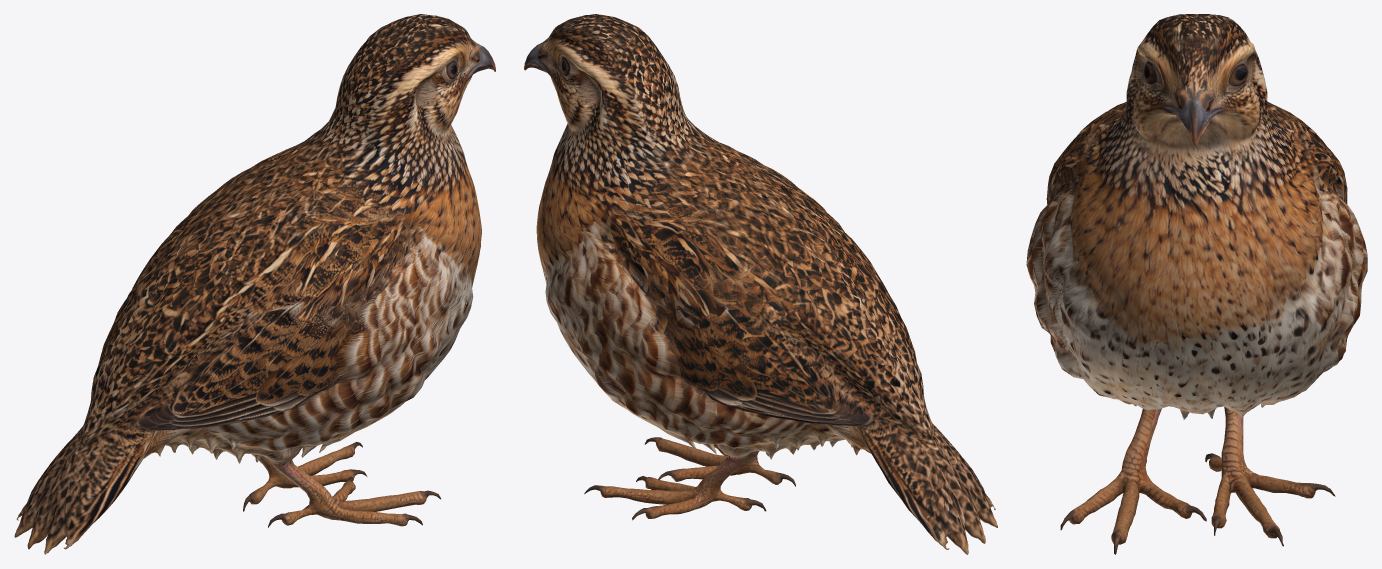
The model's file is supplied-common-quail.glb.
3 views of the same model, side by side, from view 1: azimuth 30°, elevation 25°; view 2: azimuth 150°, elevation 25°; view 3: azimuth 270°, elevation 25° (orthographic). The views are drawn at different scales.
Parts seen in each view (by area): view 1: Model_0; view 2: Model_0; view 3: Model_0.
Boxes of the visible parts, x1,y1,x2,y2 form: Model_0: (14, 14, 495, 554); Model_0: (524, 14, 997, 554); Model_0: (1026, 14, 1367, 554).
Bounding box in the file's own units: 1 × 0.9296 × 0.5264.
1 material, 1 textured.
